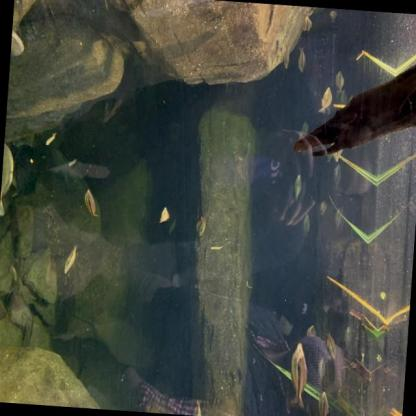fish: (288, 341, 310, 411), (0, 136, 16, 218), (82, 187, 100, 219), (61, 244, 78, 275), (318, 85, 333, 117), (315, 391, 330, 415), (292, 173, 303, 203), (195, 214, 207, 240), (300, 212, 312, 237), (333, 69, 346, 92), (280, 44, 291, 70), (296, 46, 306, 74), (158, 204, 170, 226), (333, 207, 344, 230), (332, 162, 341, 190), (301, 13, 312, 35), (43, 131, 56, 147), (319, 198, 328, 218), (330, 148, 345, 159)
